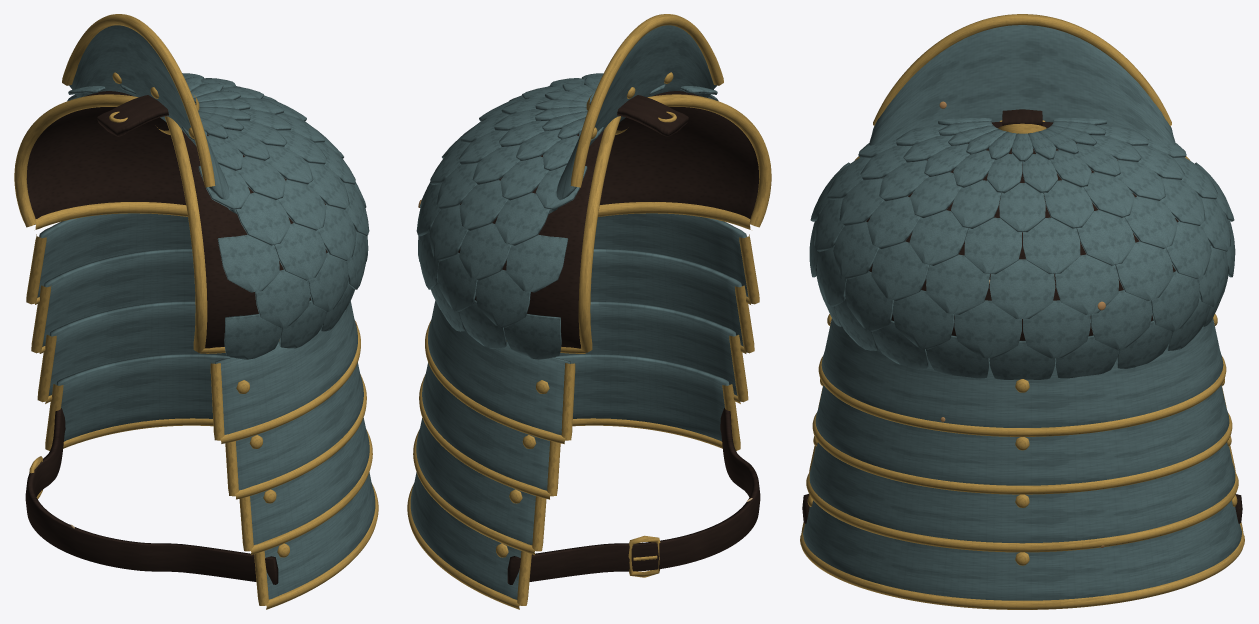
The picture shows the model from 3 angles, left to right: view 1: azimuth 30°, elevation 25°; view 2: azimuth 150°, elevation 25°; view 3: azimuth 270°, elevation 25°; orthographic projection.
Parts seen in each view (by area): view 1: blued scale plate, oiled strap leather, gilded alloy; view 2: blued scale plate, oiled strap leather, gilded alloy; view 3: blued scale plate, gilded alloy, oiled strap leather.
Part boxes in pixels (x1=…): blued scale plate: x1=37, y1=25, x2=375, y2=599; oiled strap leather: x1=25, y1=91, x2=327, y2=584; gilded alloy: x1=14, y1=14, x2=378, y2=609; blued scale plate: x1=410, y1=25, x2=748, y2=599; oiled strap leather: x1=458, y1=91, x2=760, y2=584; gilded alloy: x1=407, y1=14, x2=771, y2=609; blued scale plate: x1=803, y1=25, x2=1241, y2=600; gilded alloy: x1=800, y1=14, x2=1244, y2=609; oiled strap leather: x1=802, y1=109, x2=1242, y2=523.
Bounding box in the file's own units: 0.1967 × 0.3188 × 0.2484.
Materials: 5 (3 with a texture image).
